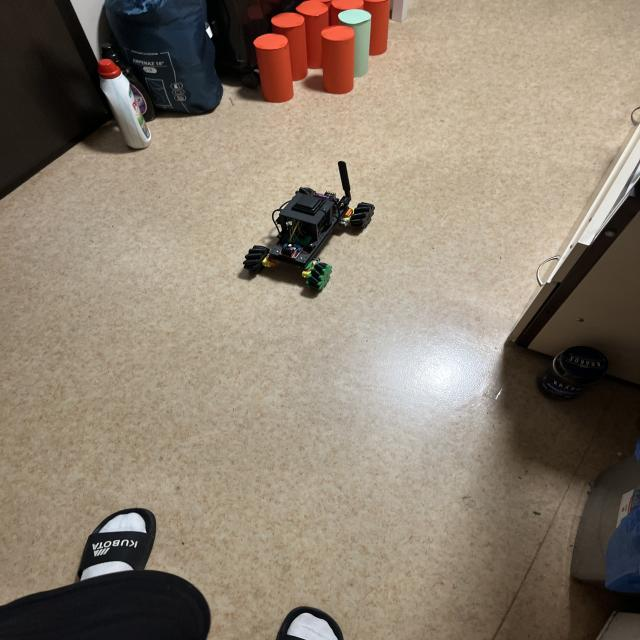robot: (243, 161, 374, 291)
